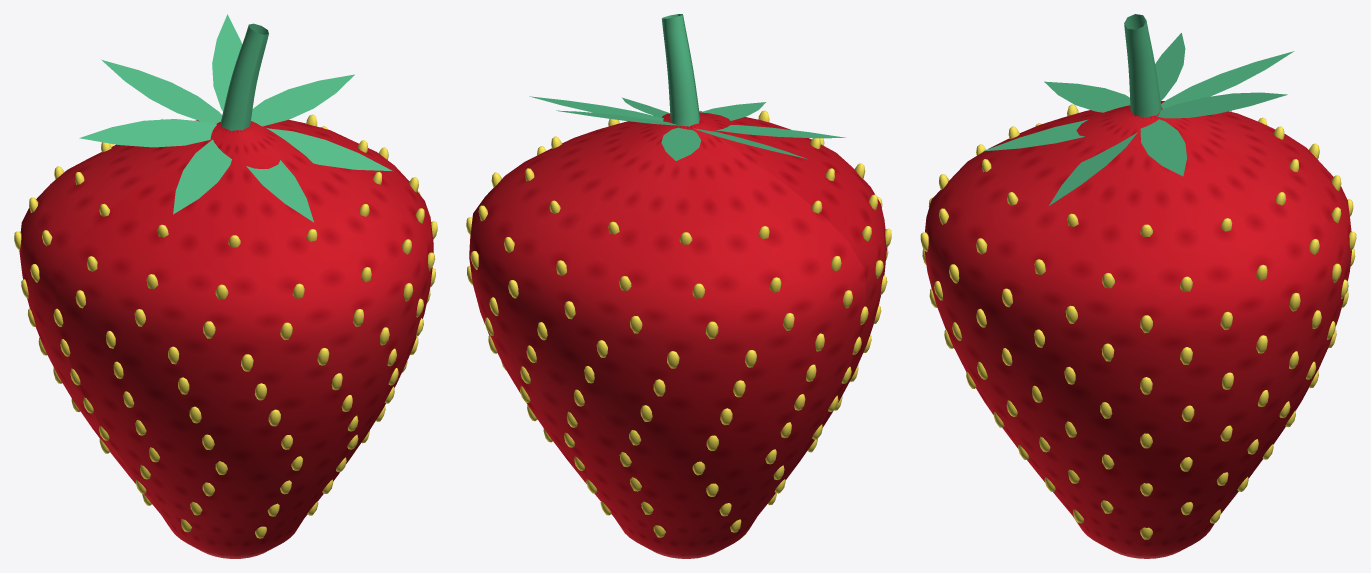
Rendered from red_strawberry.glb.
3 views of the same model, side by side, from view 1: azimuth 30°, elevation 25°; view 2: azimuth 150°, elevation 25°; view 3: azimuth 270°, elevation 25° (orthographic). The views are drawn at different scales.
Visible parts, largest first — view 1: Fruit_05_Red_Strawberry_Body, Fruit_05_Red_Strawberry_Green_Crown, Fruit_05_Red_Strawberry_Individual_Seeds; view 2: Fruit_05_Red_Strawberry_Body, Fruit_05_Red_Strawberry_Individual_Seeds, Fruit_05_Red_Strawberry_Green_Crown; view 3: Fruit_05_Red_Strawberry_Body, Fruit_05_Red_Strawberry_Green_Crown, Fruit_05_Red_Strawberry_Individual_Seeds.
Part boxes in pixels (left/top/right/bottom): Fruit_05_Red_Strawberry_Body: left=19, top=119, right=433, bottom=558; Fruit_05_Red_Strawberry_Green_Crown: left=79, top=14, right=392, bottom=222; Fruit_05_Red_Strawberry_Individual_Seeds: left=14, top=114, right=437, bottom=538; Fruit_05_Red_Strawberry_Body: left=469, top=111, right=886, bottom=558; Fruit_05_Red_Strawberry_Individual_Seeds: left=466, top=110, right=891, bottom=537; Fruit_05_Red_Strawberry_Green_Crown: left=529, top=14, right=845, bottom=160; Fruit_05_Red_Strawberry_Body: left=924, top=101, right=1351, bottom=558; Fruit_05_Red_Strawberry_Green_Crown: left=983, top=14, right=1294, bottom=205; Fruit_05_Red_Strawberry_Individual_Seeds: left=920, top=104, right=1356, bottom=539.
Size of the model in its own units: 0.0389 by 0.0533 by 0.0386.
Materials: 3 (1 with a texture image).
